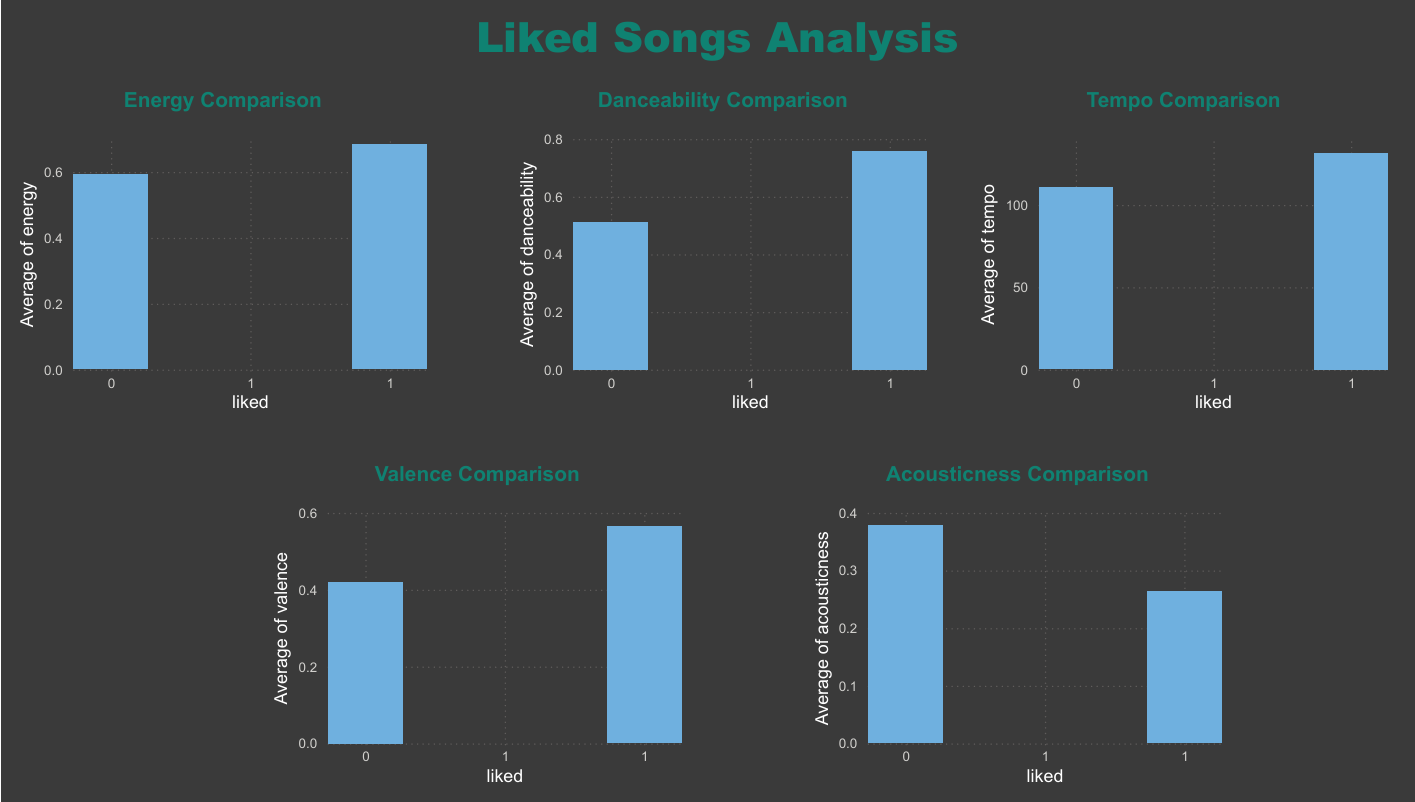

The page's visual inventory and layout, read from the dashboard file:
{"tool":"powerbi","page":{"name":"Page 3","canvas":[1280,720],"ordinal":2},"visuals":[{"type":"textbox","box":[10.5,0,1269.8,61.6],"z":0},{"type":"columnChart","title":"Energy Comparison","fields":{"Category":["spotify_cleaned (2).liked"],"Y":["Avg(spotify_cleaned (2).energy)"]},"box":[10.5,77.9,375.6,295.3],"z":1000},{"type":"columnChart","title":"Danceability Comparison","fields":{"Category":["spotify_cleaned (2).liked"],"Y":["Avg(spotify_cleaned (2).danceability)"]},"box":[458.1,77.9,375.6,295.3],"z":2000},{"type":"columnChart","title":"Tempo Comparison","fields":{"Category":["spotify_cleaned (2).liked"],"Y":["Avg(spotify_cleaned (2).tempo)"]},"box":[870.9,77.9,375.6,295.3],"z":3000},{"type":"columnChart","title":"Acousticness Comparison","fields":{"Category":["spotify_cleaned (2).liked"],"Y":["Avg(spotify_cleaned (2).acousticness)"]},"box":[722.1,412.8,375.6,295.3],"z":4000},{"type":"columnChart","title":"Valence Comparison","fields":{"Category":["spotify_cleaned (2).liked"],"Y":["Avg(spotify_cleaned (2).valence)"]},"box":[238.4,412.8,375.6,295.3],"z":5000}]}

Visuals, with their boxes in screenshot pixels (x1, y1, x2, y2), scaled from the page's 1280x720 canvas onto the 1415x802 screenshot:
textbox: [left=12, top=0, right=1414, bottom=69]
"Energy Comparison" columnChart: [left=12, top=87, right=427, bottom=416]
"Danceability Comparison" columnChart: [left=506, top=87, right=922, bottom=416]
"Tempo Comparison" columnChart: [left=963, top=87, right=1378, bottom=416]
"Acousticness Comparison" columnChart: [left=798, top=460, right=1213, bottom=789]
"Valence Comparison" columnChart: [left=264, top=460, right=679, bottom=789]
